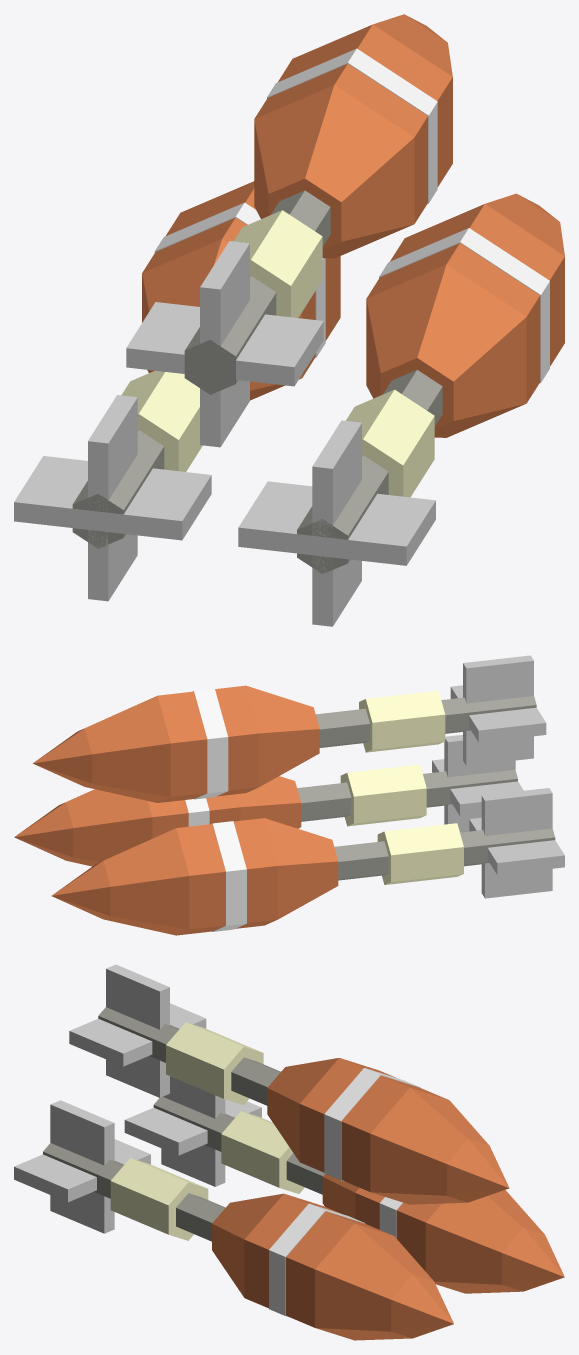
File: ce_ammo_mortar_inc_b.obj
3 views of the same model, one above another, from view 1: azimuth 30°, elevation 25°; view 2: azimuth 150°, elevation 25°; view 3: azimuth 270°, elevation 25° (orthographic). The views are drawn at different scales.
Visible parts, largest first — view 1: ce_ammo_mortar_inc_b_12, ce_ammo_mortar_inc_b_22, ce_ammo_mortar_inc_b_18, ce_ammo_mortar_inc_b_8, ce_ammo_mortar_inc_b_28, ce_ammo_mortar_inc_b_19, ce_ammo_mortar_inc_b_9, ce_ammo_mortar_inc_b_29, ce_ammo_mortar_inc_b_21, ce_ammo_mortar_inc_b_11, ce_ammo_mortar_inc_b_20, ce_ammo_mortar_inc_b_25 (+14 smaller); view 2: ce_ammo_mortar_inc_b_6, ce_ammo_mortar_inc_b_26, ce_ammo_mortar_inc_b_16, ce_ammo_mortar_inc_b_9, ce_ammo_mortar_inc_b_29, ce_ammo_mortar_inc_b_22, ce_ammo_mortar_inc_b_2, ce_ammo_mortar_inc_b_21, ce_ammo_mortar_inc_b_1, ce_ammo_mortar_inc_b_11, ce_ammo_mortar_inc_b_25, ce_ammo_mortar_inc_b_5 (+18 smaller); view 3: ce_ammo_mortar_inc_b_26, ce_ammo_mortar_inc_b_16, ce_ammo_mortar_inc_b_6, ce_ammo_mortar_inc_b_19, ce_ammo_mortar_inc_b_29, ce_ammo_mortar_inc_b_11, ce_ammo_mortar_inc_b_21, ce_ammo_mortar_inc_b_1, ce_ammo_mortar_inc_b_25, ce_ammo_mortar_inc_b_15, ce_ammo_mortar_inc_b_23, ce_ammo_mortar_inc_b_13 (+18 smaller).
Part boxes in pixels (bbox=[...]): ce_ammo_mortar_inc_b_12: bbox=[366, 264, 526, 437]; ce_ammo_mortar_inc_b_22: bbox=[254, 85, 414, 258]; ce_ammo_mortar_inc_b_18: bbox=[238, 481, 435, 565]; ce_ammo_mortar_inc_b_8: bbox=[14, 456, 211, 540]; ce_ammo_mortar_inc_b_28: bbox=[126, 302, 323, 386]; ce_ammo_mortar_inc_b_19: bbox=[312, 420, 361, 626]; ce_ammo_mortar_inc_b_9: bbox=[88, 395, 137, 601]; ce_ammo_mortar_inc_b_29: bbox=[200, 241, 249, 447]; ce_ammo_mortar_inc_b_21: bbox=[233, 210, 322, 317]; ce_ammo_mortar_inc_b_11: bbox=[346, 389, 434, 497]; ce_ammo_mortar_inc_b_20: bbox=[184, 190, 330, 394]; ce_ammo_mortar_inc_b_25: bbox=[278, 24, 452, 186]; ce_ammo_mortar_inc_b_6: bbox=[103, 828, 189, 935]; ce_ammo_mortar_inc_b_26: bbox=[84, 695, 170, 802]; ce_ammo_mortar_inc_b_16: bbox=[66, 789, 152, 866]; ce_ammo_mortar_inc_b_9: bbox=[481, 788, 552, 898]; ce_ammo_mortar_inc_b_29: bbox=[463, 655, 533, 765]; ce_ammo_mortar_inc_b_22: bbox=[246, 685, 319, 786]; ce_ammo_mortar_inc_b_2: bbox=[264, 818, 338, 919]; ce_ammo_mortar_inc_b_21: bbox=[359, 690, 445, 752]; ce_ammo_mortar_inc_b_1: bbox=[377, 823, 463, 884]; ce_ammo_mortar_inc_b_11: bbox=[340, 764, 426, 826]; ce_ammo_mortar_inc_b_25: bbox=[157, 691, 207, 802]; ce_ammo_mortar_inc_b_5: bbox=[176, 824, 225, 935]; ce_ammo_mortar_inc_b_26: bbox=[370, 1087, 489, 1204]; ce_ammo_mortar_inc_b_16: bbox=[315, 1223, 433, 1340]; ce_ammo_mortar_inc_b_6: bbox=[425, 1190, 544, 1293]; ce_ammo_mortar_inc_b_19: bbox=[50, 1100, 114, 1233]; ce_ammo_mortar_inc_b_29: bbox=[106, 964, 169, 1097]; ce_ammo_mortar_inc_b_11: bbox=[110, 1158, 208, 1240]; ce_ammo_mortar_inc_b_21: bbox=[166, 1022, 263, 1104]; ce_ammo_mortar_inc_b_1: bbox=[221, 1111, 304, 1193]; ce_ammo_mortar_inc_b_25: bbox=[341, 1075, 447, 1191]; ce_ammo_mortar_inc_b_15: bbox=[286, 1211, 392, 1327]; ce_ammo_mortar_inc_b_23: bbox=[299, 1058, 396, 1172]; ce_ammo_mortar_inc_b_13: bbox=[244, 1193, 340, 1308].
Bounding box in the file's own units: 0.8443 × 0.39 × 0.8443.
